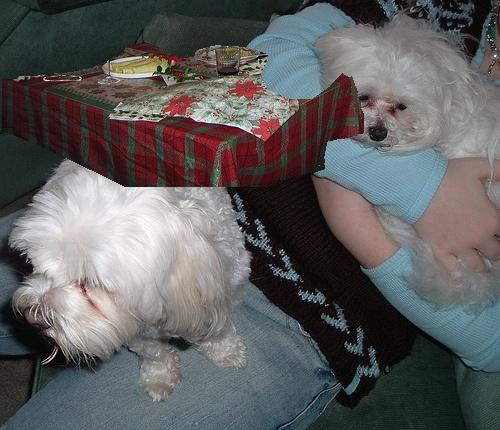tampered: (3, 43, 364, 187)
